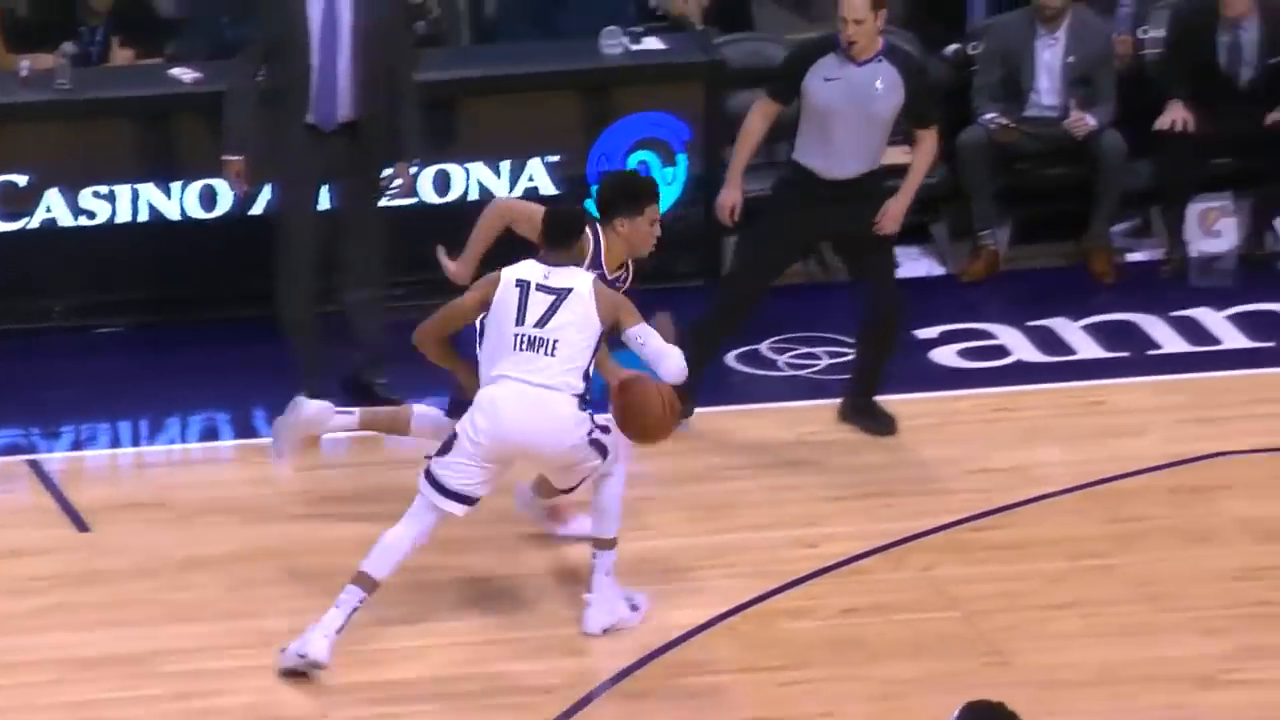ball: (612, 375, 684, 444)
